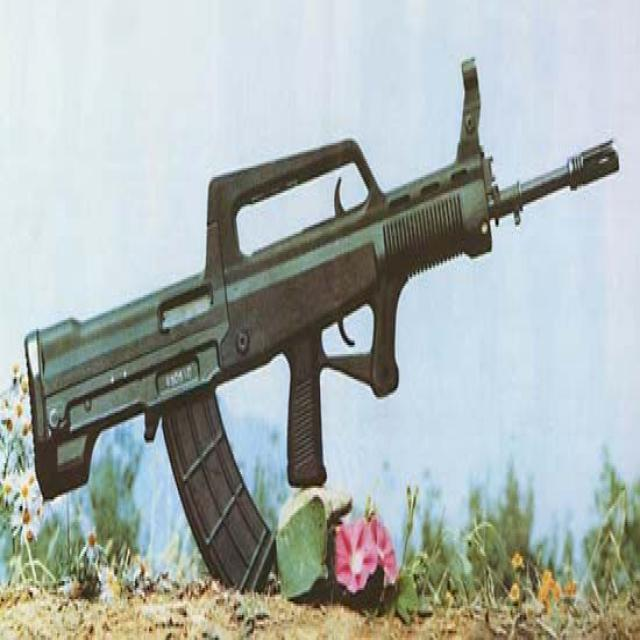Rifle: (24, 59, 621, 592)
